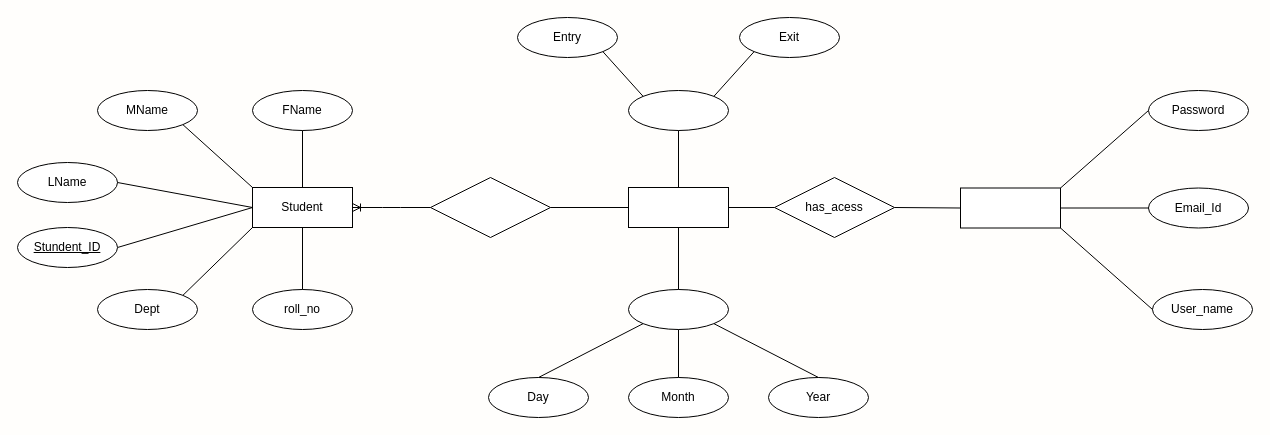
Image size: 1270x435. Some labels were removed from this diagram. Each missing label, with the centre of its shape:
Admin: point (1010, 207)
Attendance: point (678, 207)
Date: point (678, 309)
Records: point (490, 207)
Time: point (678, 110)
